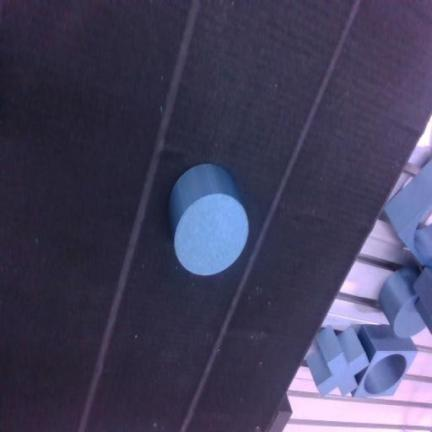cylinder: (169, 164, 248, 275)
